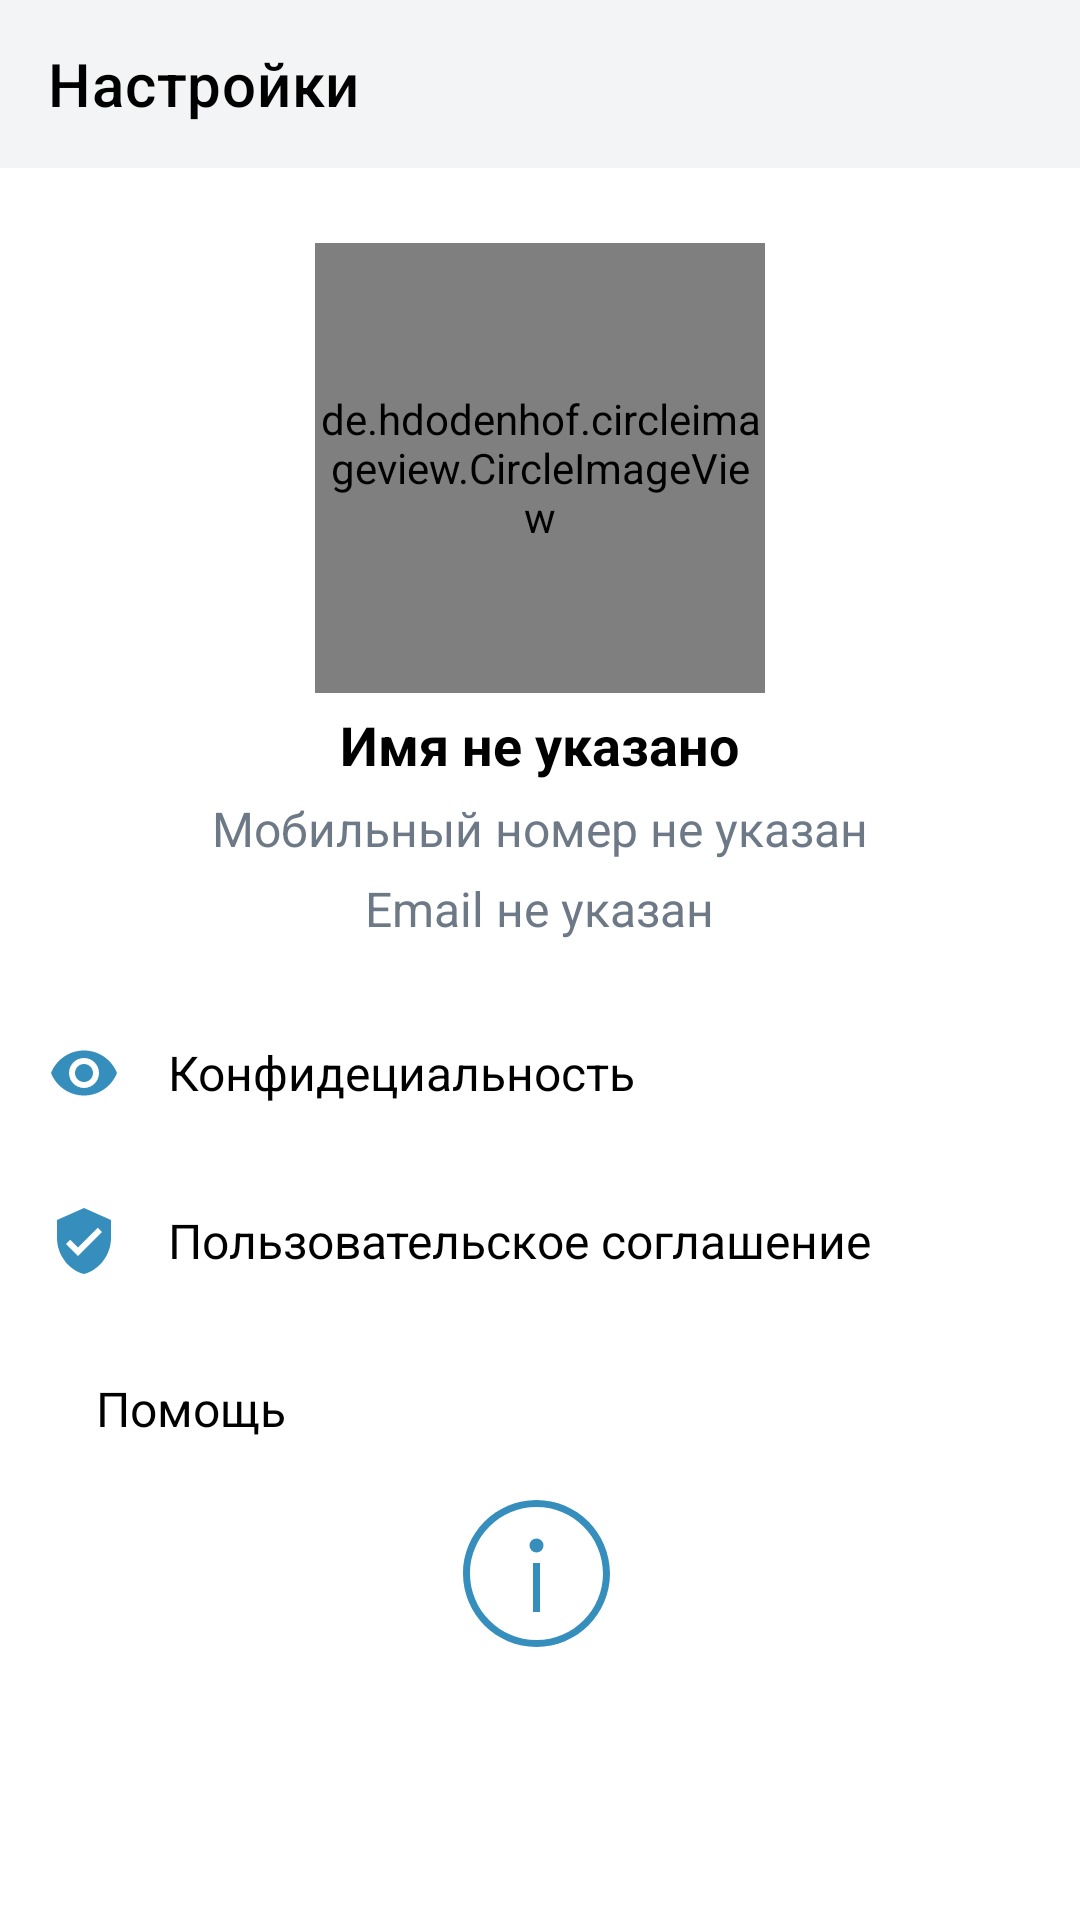

Locate icon controls on the screen. Image size 1080 x 1920, boxes as [left=x1, top=y1, right=x2, bottom=y2].
eye: [left=51, top=1050, right=117, bottom=1096]
info: [left=463, top=1500, right=610, bottom=1647]
